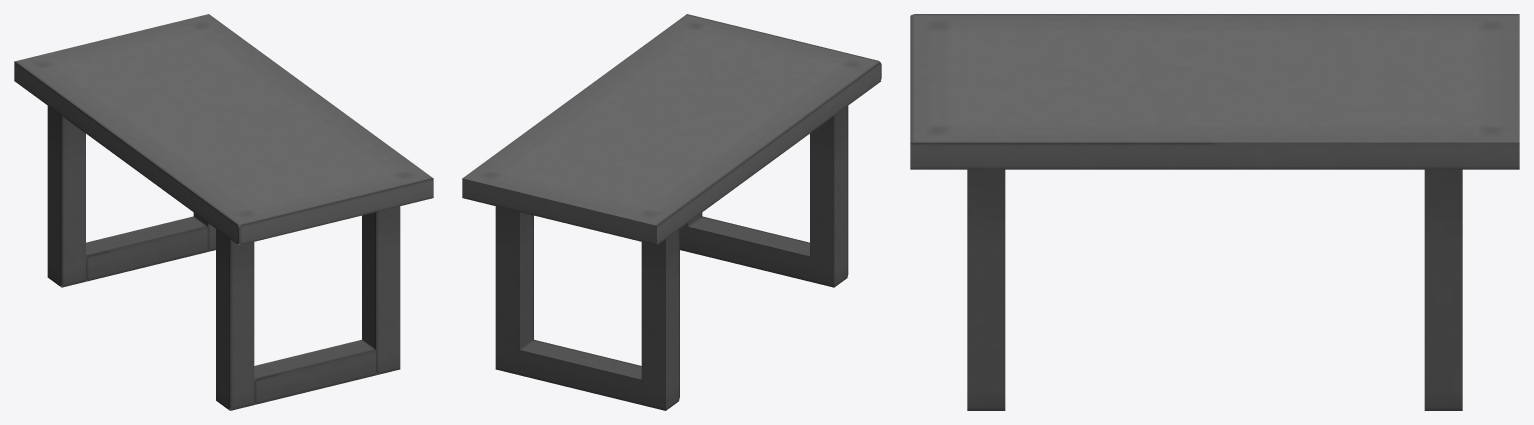
The model's file is metaltable.obj.
3 views of the same model, side by side, from view 1: azimuth 30°, elevation 25°; view 2: azimuth 150°, elevation 25°; view 3: azimuth 270°, elevation 25° (orthographic). The views are drawn at different scales.
Visible parts, largest first — view 1: bodyModel0, bodyModel4, bodyModel1, bodyModel3, bodyModel6, bodyModel5; view 2: bodyModel0, bodyModel1, bodyModel4, bodyModel2, bodyModel5, bodyModel6; view 3: bodyModel0, bodyModel2, bodyModel3.
Boxes of the visible parts, x1,y1,x2,y2 form: bodyModel0: [14, 14, 433, 245]; bodyModel4: [216, 224, 254, 410]; bodyModel1: [47, 106, 85, 287]; bodyModel3: [362, 206, 400, 375]; bodyModel6: [254, 339, 375, 404]; bodyModel5: [86, 216, 207, 281]; bodyModel0: [462, 14, 881, 245]; bodyModel1: [641, 229, 679, 410]; bodyModel4: [810, 106, 848, 287]; bodyModel2: [495, 206, 533, 375]; bodyModel5: [520, 339, 641, 404]; bodyModel6: [688, 216, 809, 281]; bodyModel0: [910, 14, 1519, 169]; bodyModel2: [1424, 169, 1462, 410]; bodyModel3: [967, 169, 1005, 410].
Size of the model in its own units: 16 by 16 by 32.
